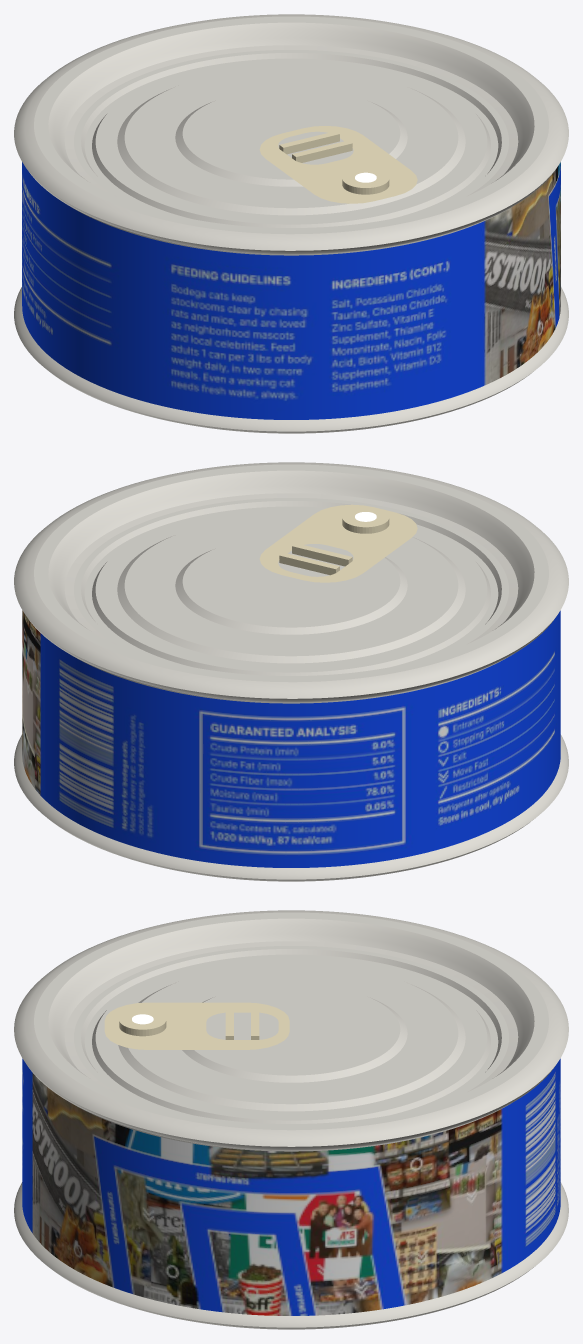
File: can-top.glb
The picture shows the model from 3 angles, top to bottom: view 1: azimuth 30°, elevation 25°; view 2: azimuth 150°, elevation 25°; view 3: azimuth 270°, elevation 25°; orthographic projection.
Visible parts, largest first — view 1: Top can - tin, Top can - label, Top can - pull tab, Top can - pull tab rivet, Top can - pull tab bar A, Top can - pull tab bar B; view 2: Top can - tin, Top can - label, Top can - pull tab, Top can - pull tab rivet, Top can - pull tab bar B, Top can - pull tab bar A; view 3: Top can - tin, Top can - label, Top can - pull tab, Top can - pull tab rivet.
Part boxes in pixels (x1,y1,x2,y2): Top can - tin: (14,14,568,433); Top can - label: (22,162,560,419); Top can - pull tab: (259,126,417,203); Top can - pull tab rivet: (342,168,389,194); Top can - pull tab bar A: (279,131,339,154); Top can - pull tab bar B: (292,140,352,162); Top can - tin: (14,462,568,881); Top can - label: (22,610,560,867); Top can - pull tab: (259,504,417,582); Top can - pull tab rivet: (342,507,389,533); Top can - pull tab bar B: (292,543,352,566); Top can - pull tab bar A: (279,552,339,575); Top can - tin: (14,910,568,1329); Top can - label: (22,1058,560,1315); Top can - pull tab: (104,1002,289,1049); Top can - pull tab rivet: (119,1009,166,1036).
Bounding box in the file's own units: 3.06 × 1.22 × 3.06.
4 materials, 1 textured.
